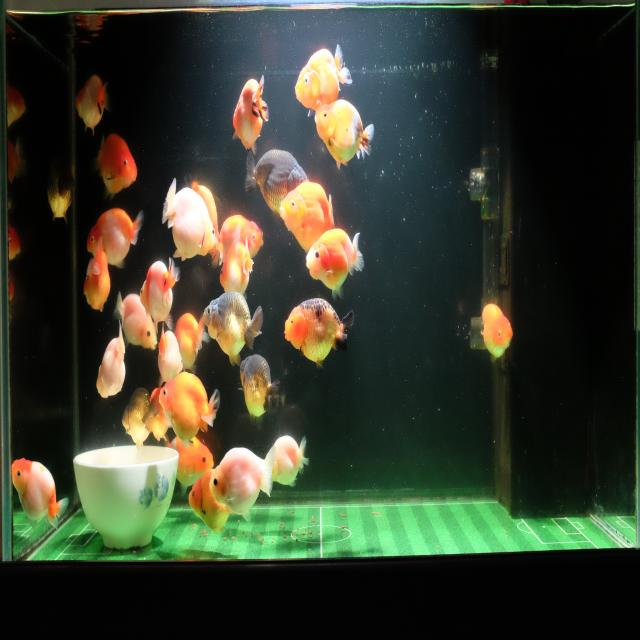Goldfish: (284, 295, 355, 372), (209, 446, 276, 524), (161, 173, 216, 265), (156, 372, 222, 448), (202, 289, 264, 369), (306, 226, 366, 302), (11, 456, 69, 533), (244, 148, 309, 216), (314, 99, 374, 172), (278, 179, 336, 254), (294, 42, 354, 110), (85, 207, 144, 273), (138, 255, 180, 337), (208, 213, 264, 274), (187, 467, 233, 540), (238, 353, 282, 427), (164, 434, 214, 498), (232, 72, 270, 156), (96, 129, 138, 205), (42, 148, 78, 232), (112, 288, 158, 351), (119, 381, 159, 453), (72, 69, 111, 138), (263, 432, 310, 489), (95, 318, 126, 402), (82, 234, 112, 316), (218, 232, 255, 298), (174, 308, 210, 375), (479, 300, 514, 368), (155, 321, 183, 391)
